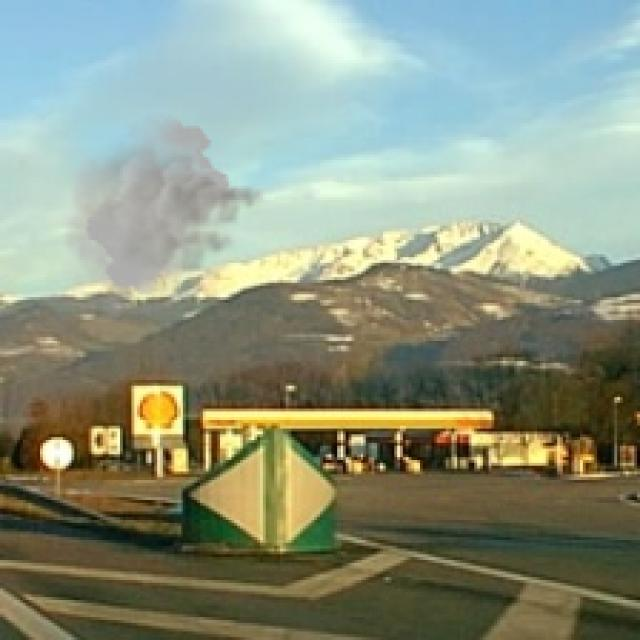smoke: (57, 114, 272, 326)
